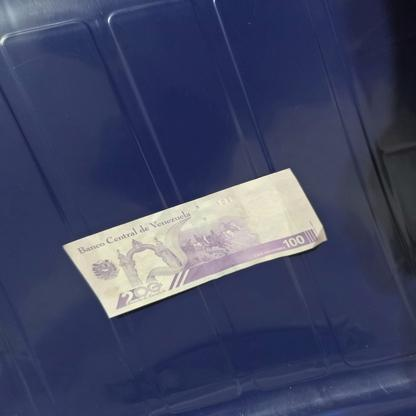one_hundred-back-vef: (61, 166, 328, 320)
